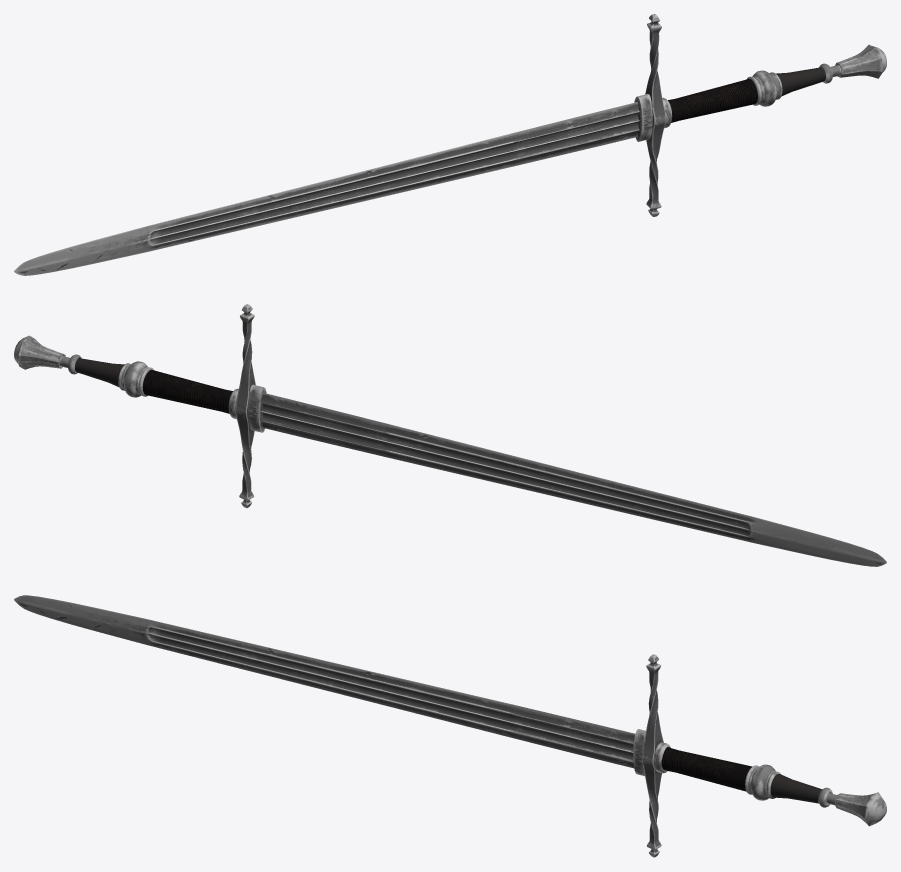
The model's file is swordMesh.fbx.
3 views of the same model, one above another, from view 1: azimuth 30°, elevation 25°; view 2: azimuth 150°, elevation 25°; view 3: azimuth 330°, elevation 25° (orthographic).
Parts seen in each view (by area): view 1: лезвие_Plane.001, ручка_Cylinder.005, гарда_Plane.000; view 2: лезвие_Plane.001, ручка_Cylinder.005, гарда_Plane.000; view 3: лезвие_Plane.001, ручка_Cylinder.005, гарда_Plane.000.
Part boxes in pixels (x1,y1,x2,y2): лезвие_Plane.001: (14, 102, 639, 275); ручка_Cylinder.005: (634, 44, 886, 141); гарда_Plane.000: (645, 14, 665, 216); лезвие_Plane.001: (261, 393, 886, 566); ручка_Cylinder.005: (14, 335, 266, 432); гарда_Plane.000: (235, 304, 255, 508); лезвие_Plane.001: (14, 595, 635, 768); ручка_Cylinder.005: (633, 729, 886, 826); гарда_Plane.000: (642, 654, 663, 857).
Size of the model in its own units: 1832 by 406 by 67.2.
